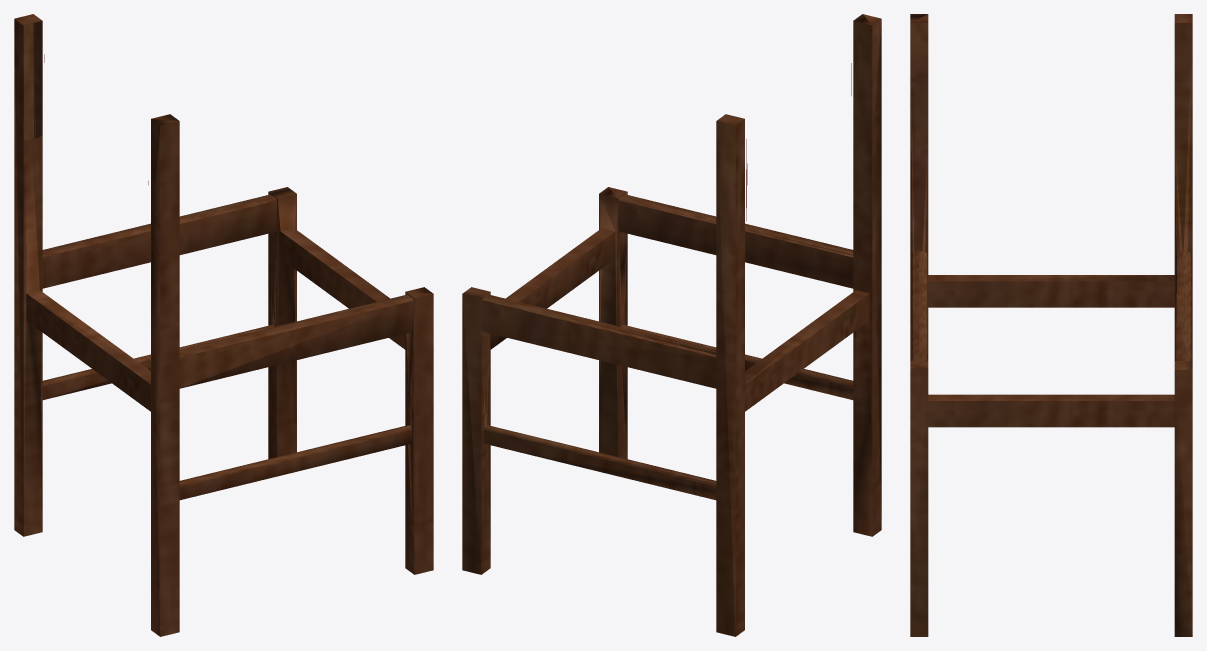
The model's file is body.obj.
3 renders of one model, left to right at view 1: azimuth 30°, elevation 25°; view 2: azimuth 150°, elevation 25°; view 3: azimuth 270°, elevation 25°, orthographic. The views are drawn at different scales.
Parts seen in each view (by area): view 1: body_mesh2_mesh2-geometry; view 2: body_mesh2_mesh2-geometry; view 3: body_mesh2_mesh2-geometry.
Boxes of the visible parts, left/top/right/bottom form: body_mesh2_mesh2-geometry: left=14, top=14, right=433, bottom=636; body_mesh2_mesh2-geometry: left=462, top=14, right=881, bottom=636; body_mesh2_mesh2-geometry: left=910, top=14, right=1192, bottom=636.
Size of the model in its own units: 0.4374 by 0.7754 by 0.4015.
